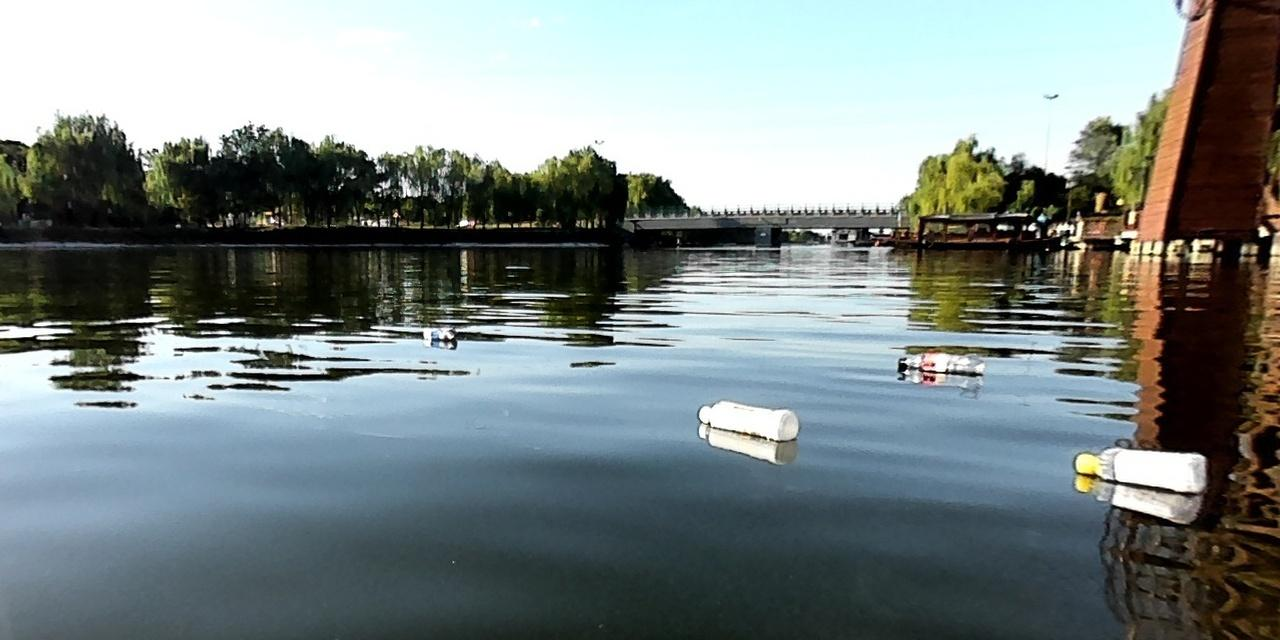bottle: (1071, 441, 1210, 493), (692, 396, 802, 442), (891, 347, 991, 380), (419, 324, 458, 341)
